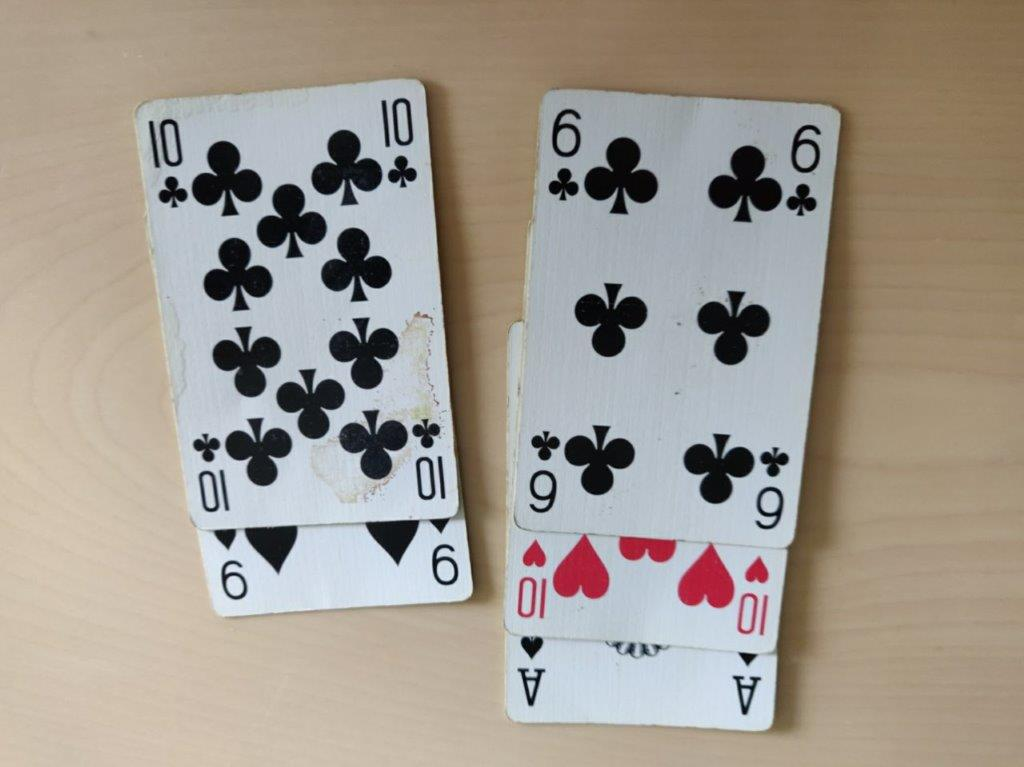10C: (142, 109, 191, 215), (377, 91, 426, 197)
6C: (546, 100, 589, 207), (781, 115, 824, 222)
